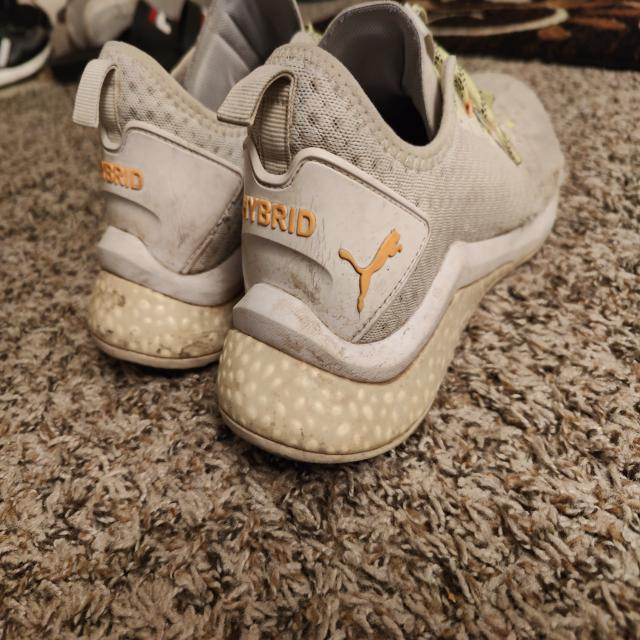white shoes: (73, 47, 553, 443)
